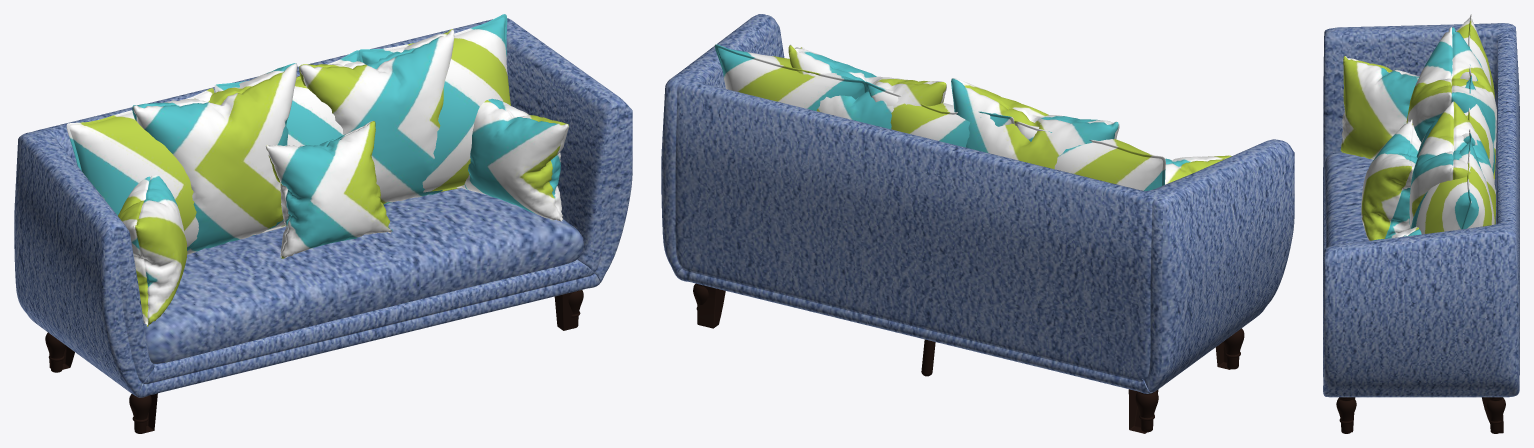
3 renders of one model, left to right at view 1: azimuth 30°, elevation 25°; view 2: azimuth 150°, elevation 25°; view 3: azimuth 270°, elevation 25°, orthographic. The views are drawn at different scales.
Visible parts, largest first — view 1: pillow_02_geo, couch, seat, pillow_01_geo, Legs_02_geo, Legs_01_geo; view 2: couch, pillow_02_geo, pillow_01_geo, Legs_01_geo, Legs_02_geo; view 3: couch, pillow_02_geo, pillow_01_geo, seat, Legs_02_geo, Legs_01_geo.
Boxes of the visible parts, <box> form: pillow_02_geo: <box>118,29,568,326</box>; couch: <box>14,18,632,397</box>; seat: <box>144,188,583,363</box>; pillow_01_geo: <box>66,14,510,250</box>; Legs_02_geo: <box>45,290,583,433</box>; Legs_01_geo: <box>49,290,578,432</box>; couch: <box>661,14,1294,393</box>; pillow_02_geo: <box>788,44,1231,184</box>; pillow_01_geo: <box>714,44,1165,191</box>; Legs_01_geo: <box>697,284,1230,433</box>; Legs_02_geo: <box>693,283,1244,432</box>; couch: <box>1323,23,1519,397</box>; pillow_02_geo: <box>1340,27,1496,240</box>; pillow_01_geo: <box>1411,14,1494,234</box>; seat: <box>1324,152,1373,247</box>; Legs_02_geo: <box>1336,397,1505,433</box>; Legs_01_geo: <box>1339,397,1503,433</box>.
Size of the model in its own units: 2.09 by 1.03 by 0.7535.
4 materials, 3 textured.
